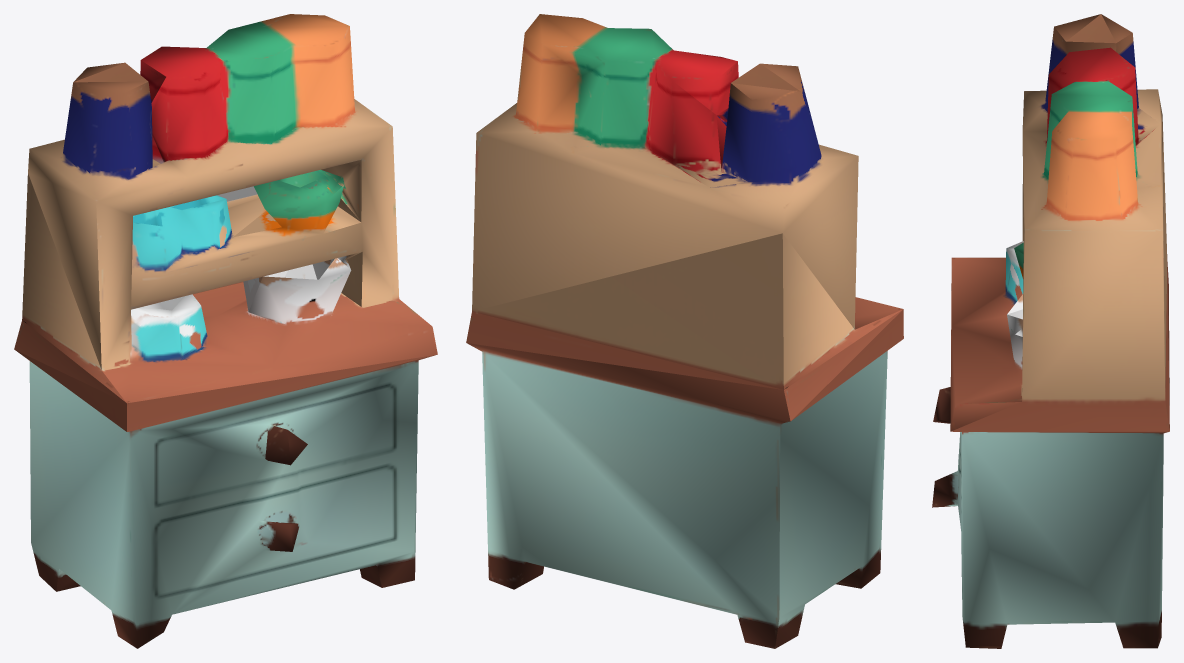
The model's file is kitchen-dresser.glb.
3 renders of one model, left to right at view 1: azimuth 30°, elevation 25°; view 2: azimuth 150°, elevation 25°; view 3: azimuth 270°, elevation 25°, orthographic. The views are drawn at different scales.
Parts seen in each view (by area): view 1: geometry_0.001; view 2: geometry_0.001; view 3: geometry_0.001.
Part boxes in pixels (left/top/right/bottom): geometry_0.001: left=14, top=14, right=437, bottom=648; geometry_0.001: left=466, top=14, right=903, bottom=648; geometry_0.001: left=932, top=14, right=1169, bottom=648.
Bounding box in the file's own units: 0.6293 × 0.9974 × 0.4238.
Materials: 1 (1 with a texture image).
